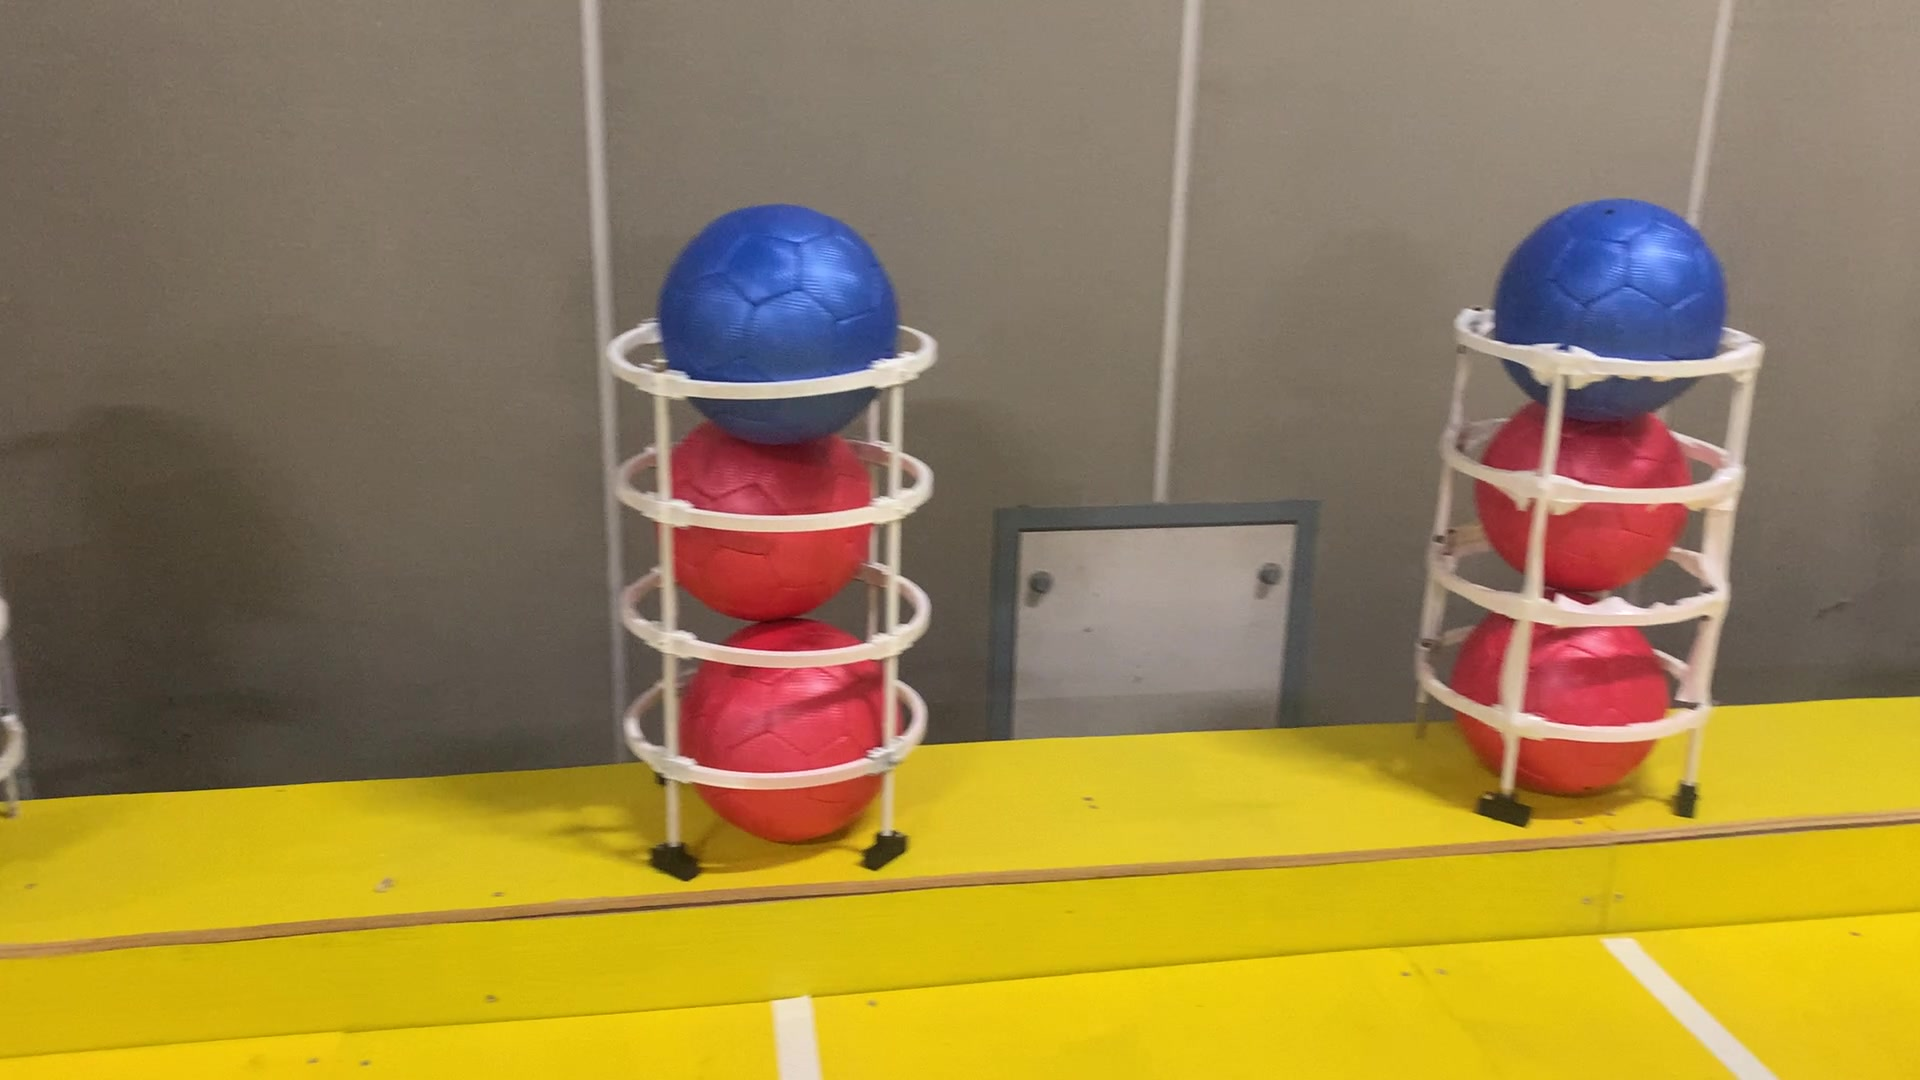blue: (655, 207, 906, 443), (1499, 185, 1734, 427)
red: (674, 615, 913, 851), (1444, 583, 1676, 799), (655, 407, 881, 615), (1478, 385, 1691, 587)
